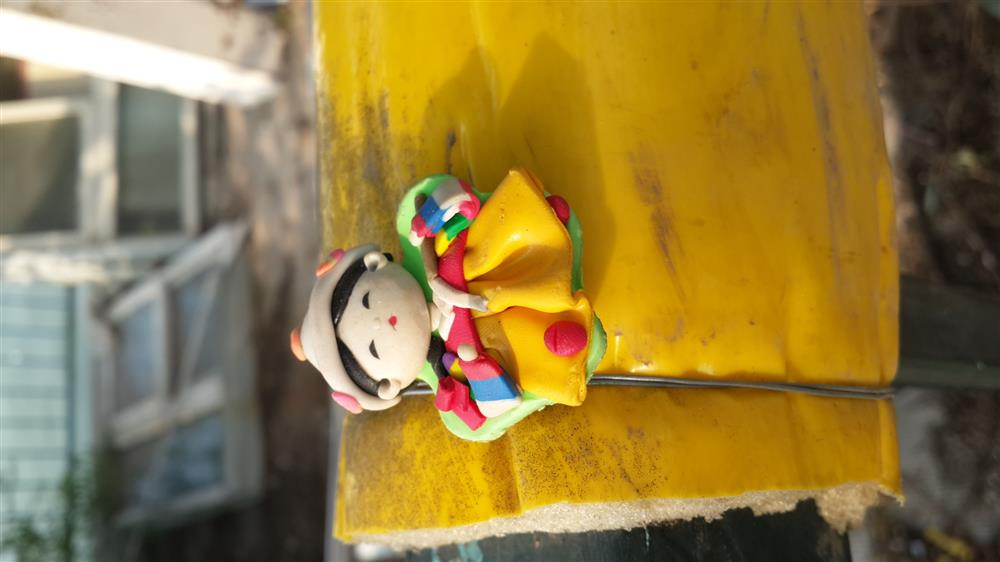clay_figurine: (276, 175, 620, 446)
